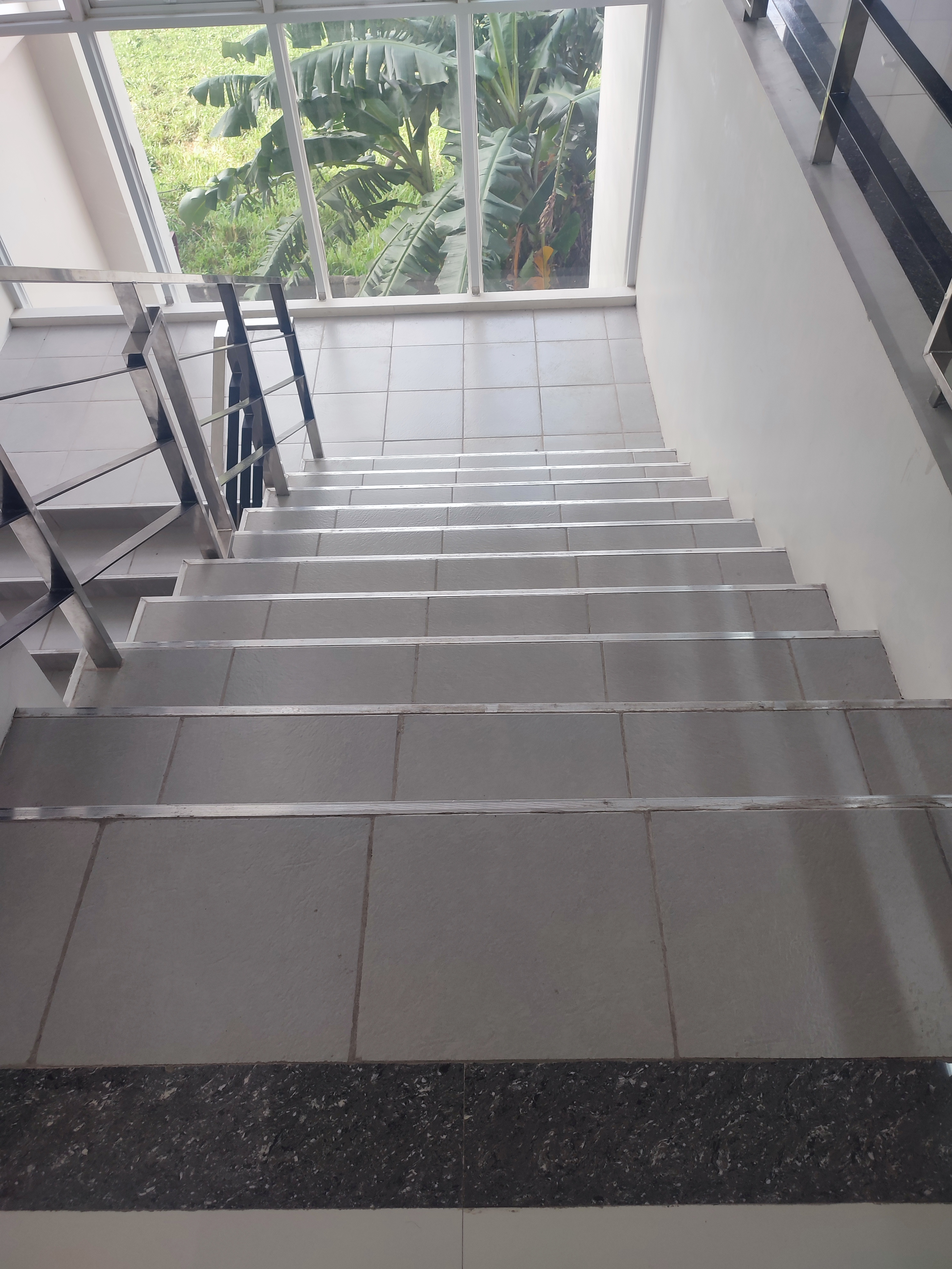Staircase: (0, 294, 952, 1269)
